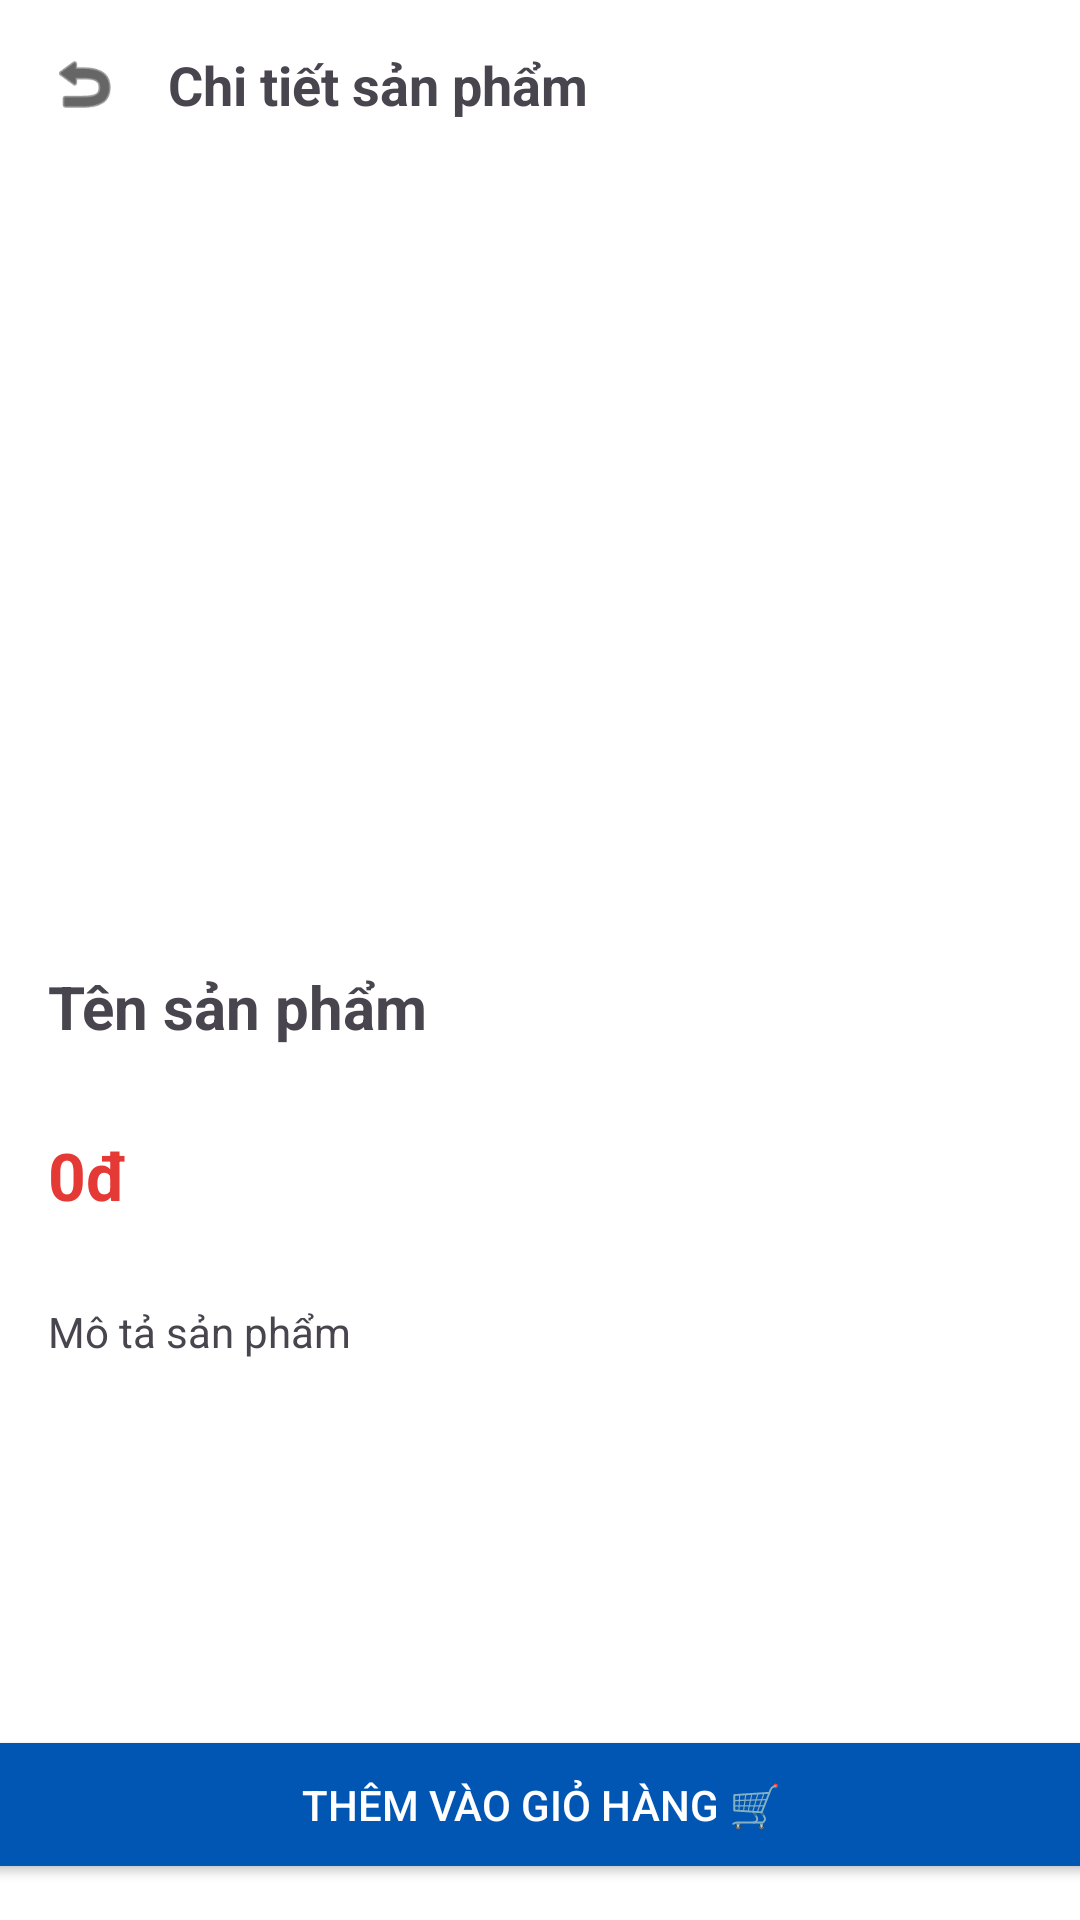

Named icons in this screenshot (1080×1920) and their centers, (x,y):
revert: (85,84)
